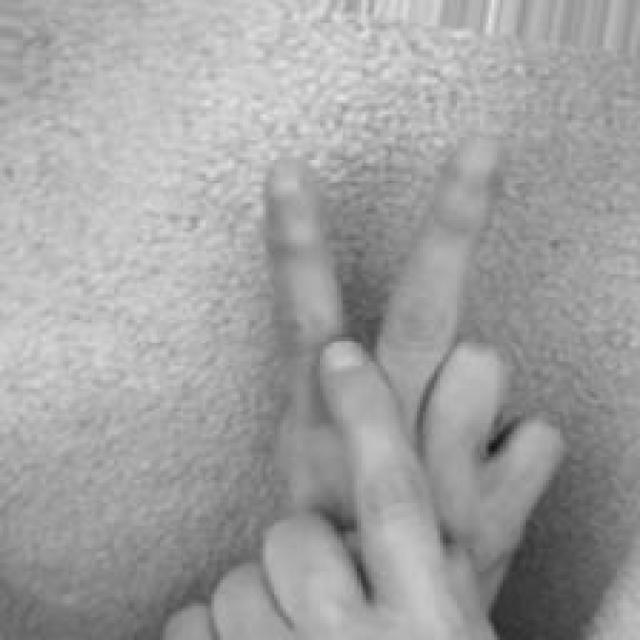Y: (168, 124, 572, 640)
